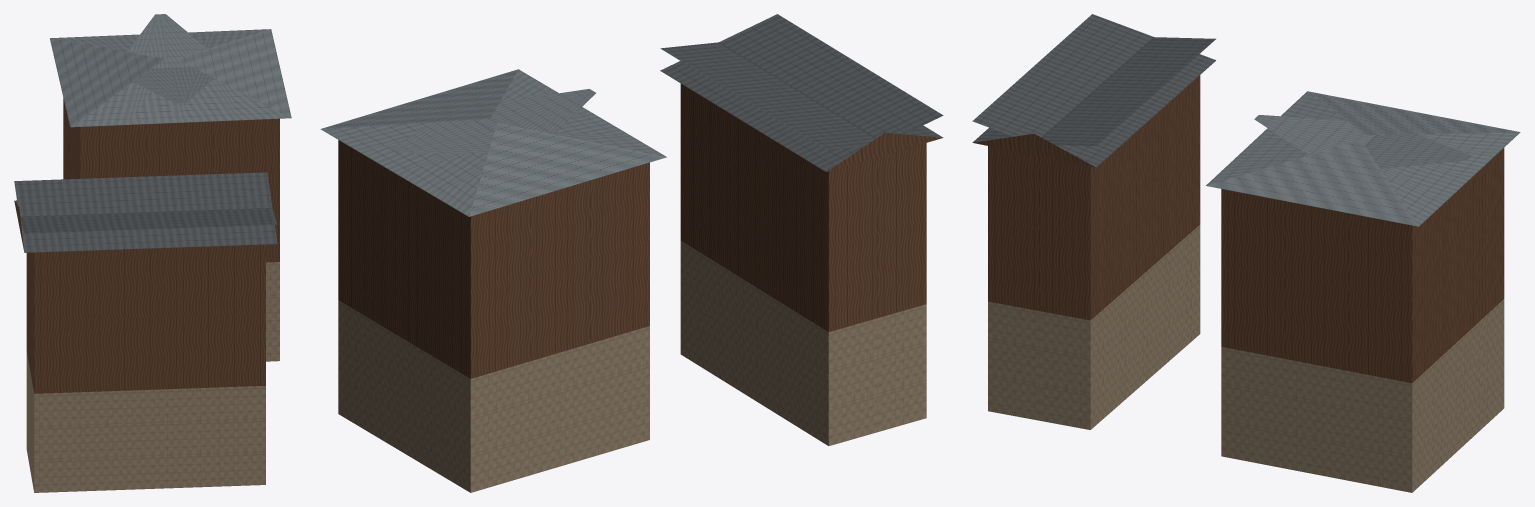
Rendered from bld_c10_28_399.gltf.
3 renders of one model, left to right at view 1: azimuth 30°, elevation 25°; view 2: azimuth 150°, elevation 25°; view 3: azimuth 270°, elevation 25°, orthographic. The views are drawn at different scales.
Parts seen in each view (by area): view 1: bld_c10_28_399; view 2: bld_c10_28_399; view 3: bld_c10_28_399.
Part boxes in pixels (left/top/right/bottom): bld_c10_28_399: left=14, top=14, right=291, bottom=492; bld_c10_28_399: left=320, top=14, right=943, bottom=492; bld_c10_28_399: left=972, top=14, right=1520, bottom=492.
Size of the model in its own units: 21.24 by 14.6 by 23.13.
5 materials, 5 textured.
